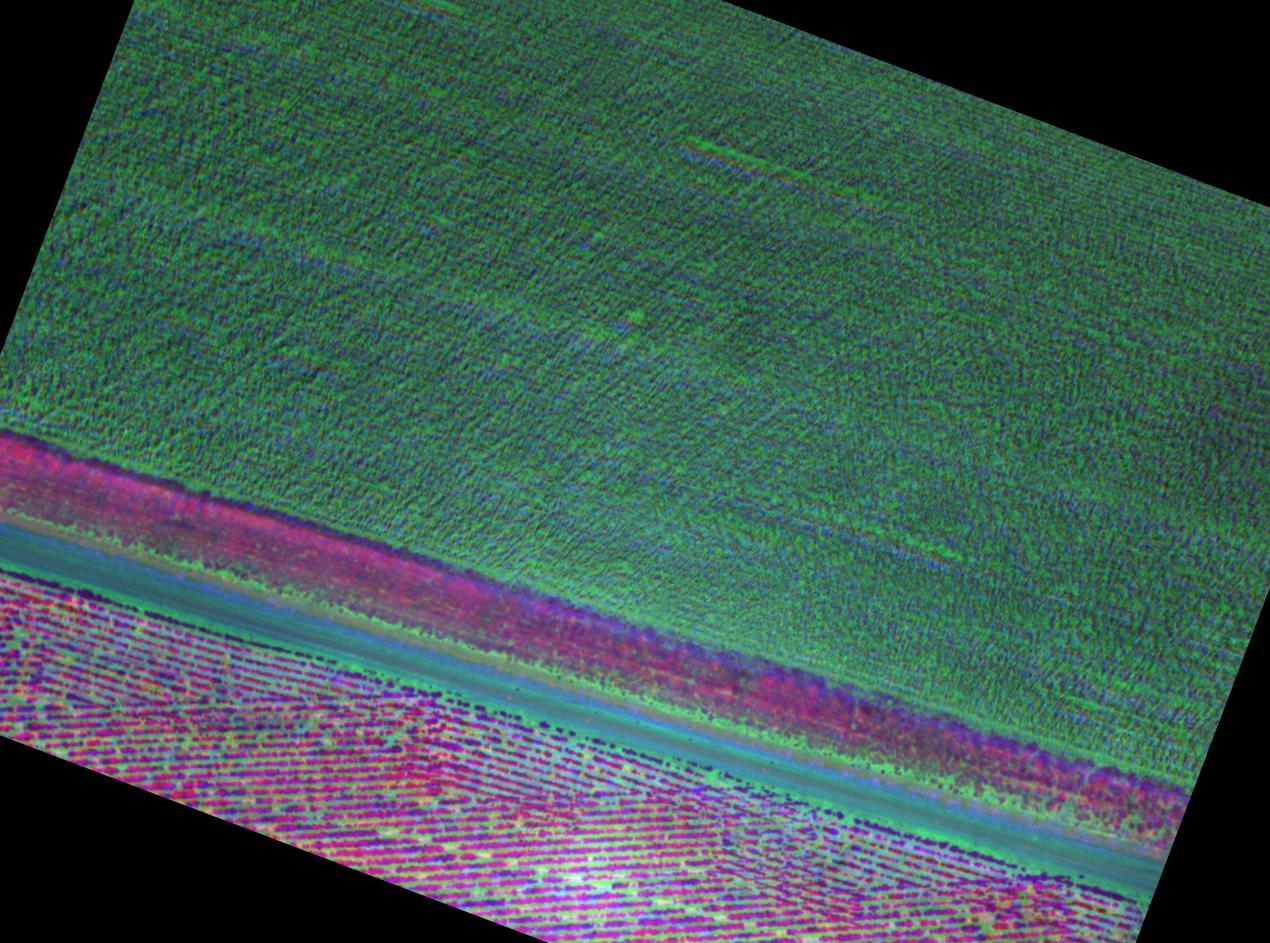dc: (539, 868, 546, 874), (601, 882, 607, 889), (388, 736, 393, 741), (432, 803, 437, 808), (1115, 909, 1119, 913), (983, 923, 987, 927)
